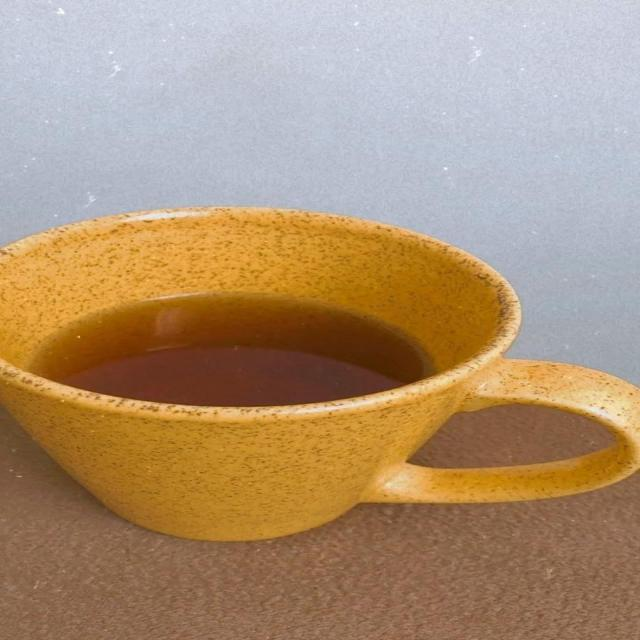cup-handle: (1, 201, 639, 543)
